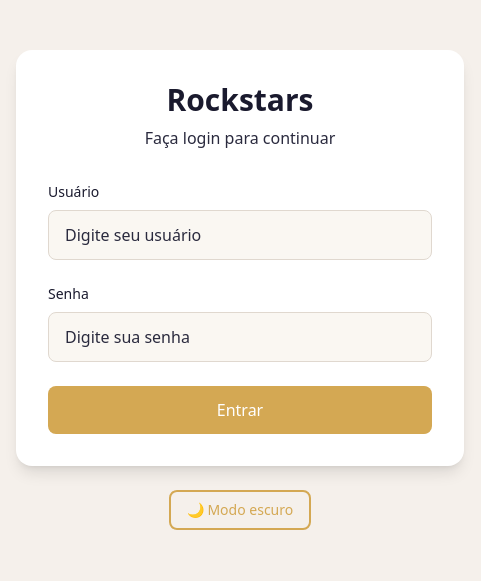
Login › deve mostrar erro quando usuário está vazio
What coordinates should you click on to do the following:
click the button "Entrar"
I would click on:
 (240, 410)
Its box is [48,386,432,434].
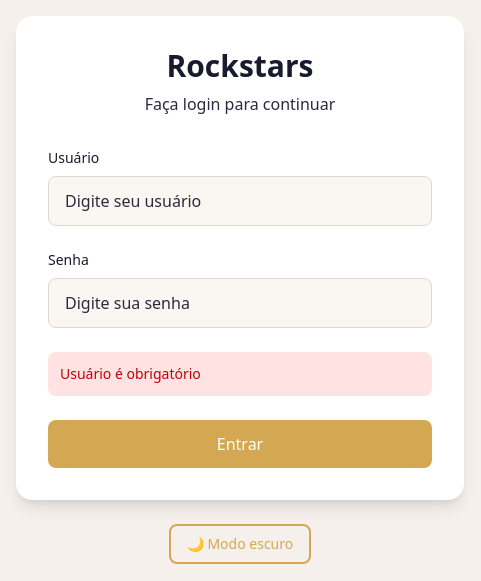
Now the text "Usuário é obrigatório" is shown, box [48,352,432,396]
